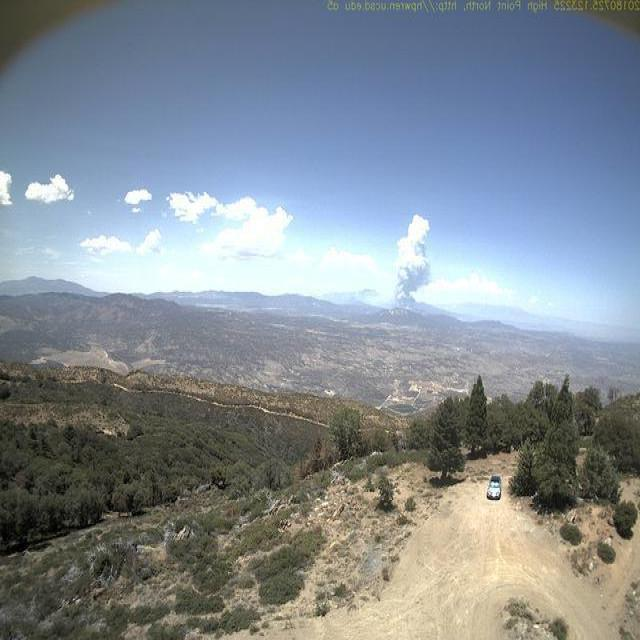Smoke: (388, 212, 435, 319)
